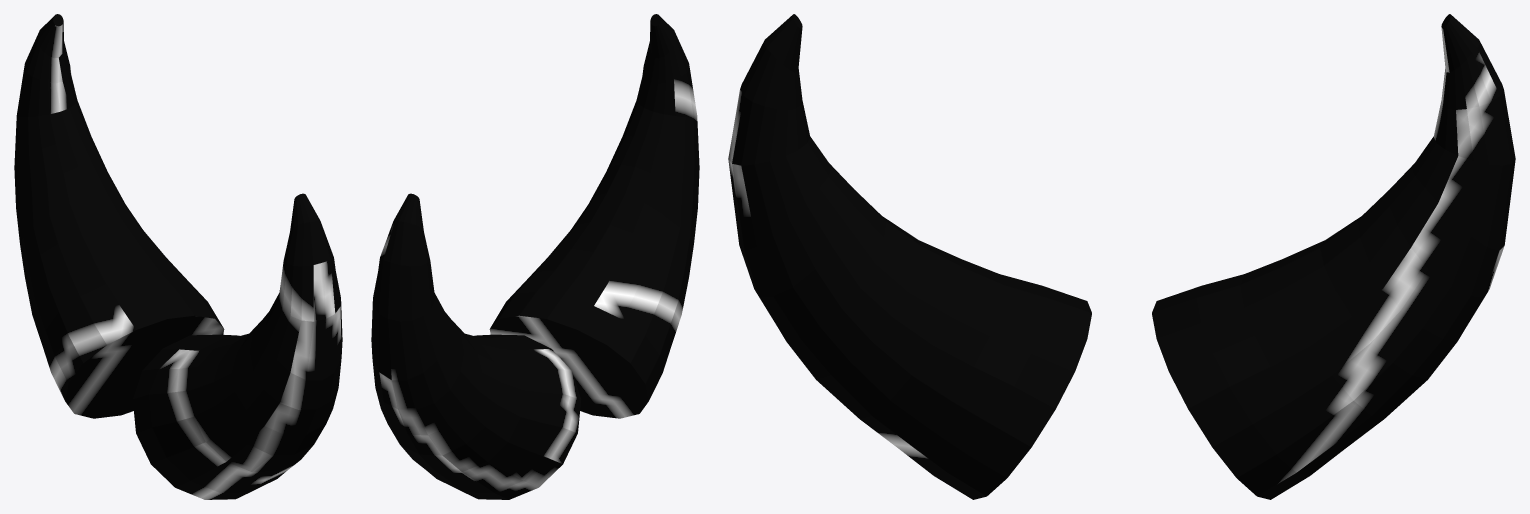
Rendered from horns1.fbx.
3 renders of one model, left to right at view 1: azimuth 30°, elevation 25°; view 2: azimuth 150°, elevation 25°; view 3: azimuth 270°, elevation 25°, orthographic. The views are drawn at different scales.
Parts seen in each view (by area): view 1: Icosphere.001; view 2: Icosphere.001; view 3: Icosphere.001.
Boxes of the visible parts, x1,y1,x2,y2 form: Icosphere.001: (14, 14, 342, 499); Icosphere.001: (371, 14, 699, 499); Icosphere.001: (728, 14, 1515, 499).
Bounding box in the file's own units: 100 × 222 × 335.
